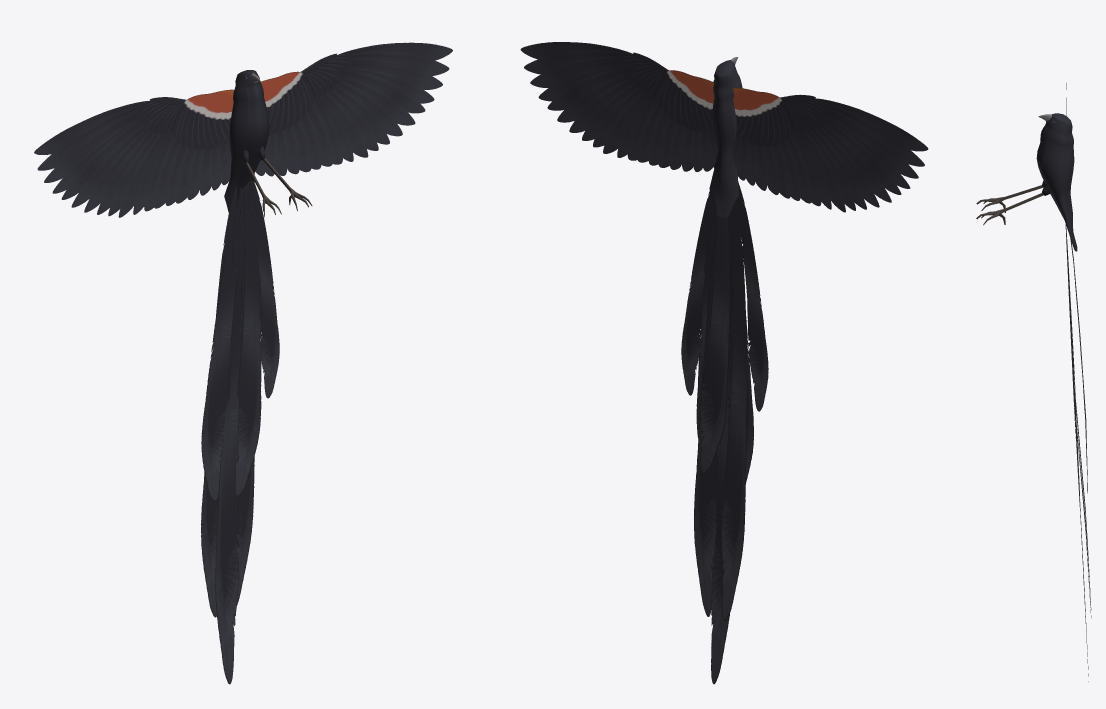
File: Long-tailed Widowbird Full.fbx
The picture shows the model from 3 angles, left to right: view 1: azimuth 30°, elevation 25°; view 2: azimuth 150°, elevation 25°; view 3: azimuth 270°, elevation 25°; orthographic projection. The views are drawn at different scales.
Parts seen in each view (by area): view 1: Long_tailed_Widowbird; view 2: Long_tailed_Widowbird; view 3: Long_tailed_Widowbird.
Boxes of the visible parts, bbox=[...] form: Long_tailed_Widowbird: bbox=[34, 42, 452, 684]; Long_tailed_Widowbird: bbox=[520, 42, 928, 684]; Long_tailed_Widowbird: bbox=[976, 83, 1091, 681].
Bounding box in the file's own units: 9.57 × 12.71 × 2.3.
